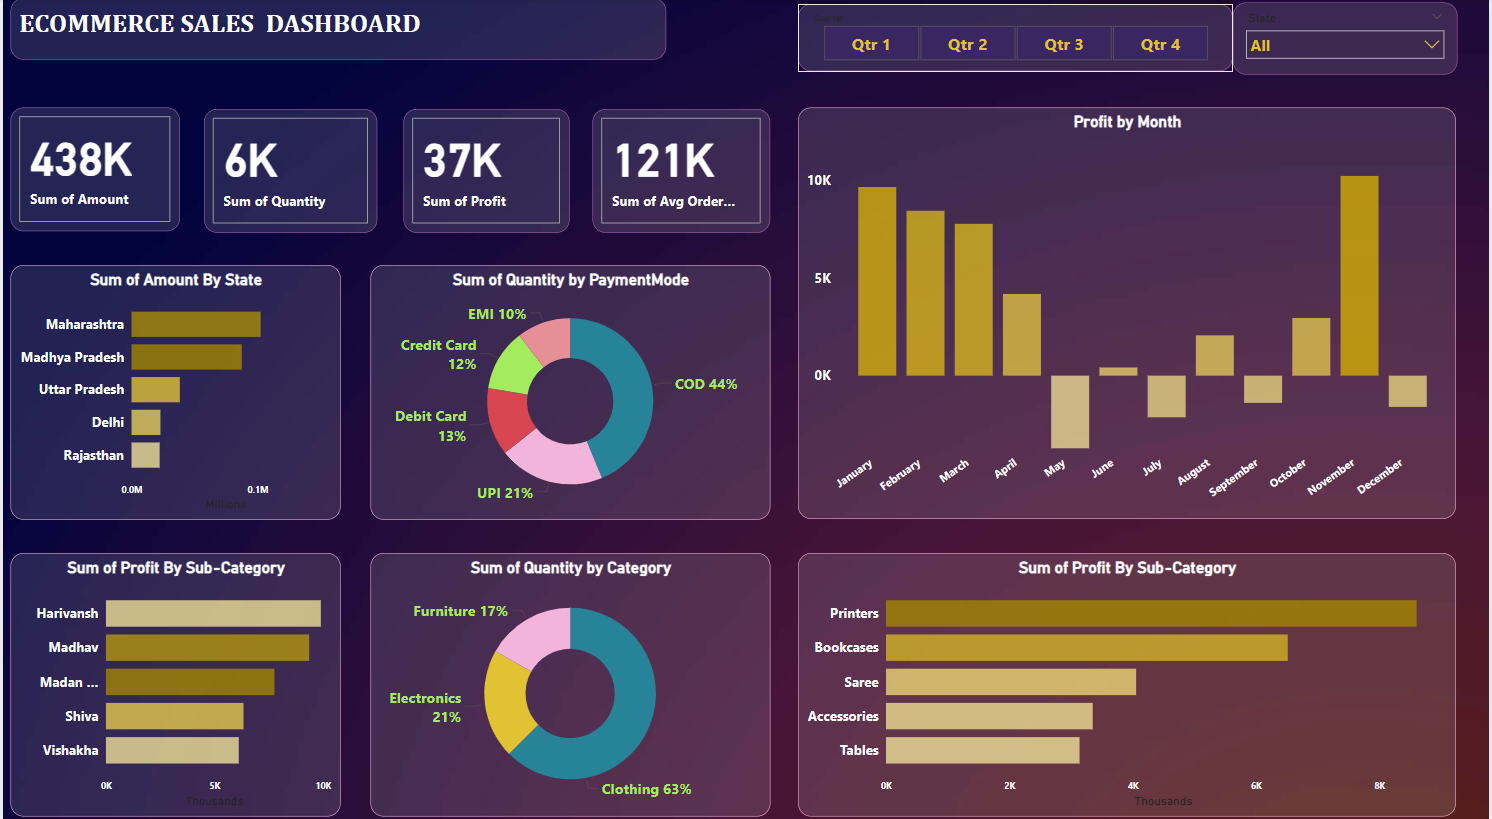

This screenshot's page, from the dashboard's own definition file:
{"tool":"powerbi","page":{"name":"Page 1","canvas":[1800,1001],"ordinal":0},"visuals":[{"type":"textbox","box":[9,0,794.9,74.4],"z":0},{"type":"columnChart","title":"Profit by Month","fields":{"Category":["Orders.Order Date.Variation.Date Hierarchy.Month"],"Y":["Details.Profit"]},"box":[964.1,133.3,797.4,498.7],"z":1000},{"type":"barChart","title":"Sum of Profit By  Sub-Category","fields":{"Category":["Details.Sub-Category"],"Y":["Details.Profit"]},"box":[964.1,673.1,797.4,319.2],"z":2000},{"type":"donutChart","fields":{"Category":["Details.Category"],"Y":["Details.Quantity"]},"box":[444.9,673.1,484.6,319.2],"z":3000},{"type":"donutChart","fields":{"Category":["Details.PaymentMode"],"Y":["Details.Quantity"]},"box":[444.9,323.1,484.6,309],"z":4000},{"type":"cardVisual","fields":{"Data":["Details.Amount"]},"box":[9,133.3,205.1,150],"z":5000},{"type":"cardVisual","fields":{"Data":["Details.Quantity"]},"box":[243.6,134.6,210.3,150],"z":6000},{"type":"cardVisual","fields":{"Data":["Details.Profit"]},"box":[485.9,134.6,201.3,150],"z":7000},{"type":"cardVisual","fields":{"Data":["Details.Avg Order Value"]},"box":[714.1,134.6,215.4,150],"z":8000},{"type":"barChart","title":"Sum of Amount By State","fields":{"Category":["Orders.State"],"Y":["Details.Amount"]},"box":[9,323.1,400,309],"z":9000},{"type":"barChart","title":"Sum of Profit By  Sub-Category","fields":{"Category":["Orders.CustomerName"],"Y":["Details.Amount"]},"box":[9,673.1,400,319.2],"z":10000},{"type":"slicer","fields":{"Values":["Orders.Order Date.Variation.Date Hierarchy.Quarter"]},"box":[963.3,8.2,526.5,81.6],"z":11000},{"type":"slicer","fields":{"Values":["Orders.State"]},"box":[1489.7,5.1,271.8,87.2],"z":12000}]}

Visuals, with their boxes in screenshot pixels (x1, y1, x2, y2), scaled from the page's 1800x1001 canvas onto the 1492x819 screenshot:
textbox: bbox(7, 0, 666, 61)
"Profit by Month" columnChart: bbox(799, 109, 1460, 517)
"Sum of Profit By  Sub-Category" barChart: bbox(799, 551, 1460, 812)
donutChart - Details.Category x Details.Quantity: bbox(369, 551, 770, 812)
donutChart - Details.PaymentMode x Details.Quantity: bbox(369, 264, 770, 517)
cardVisual - Details.Amount: bbox(7, 109, 177, 232)
cardVisual - Details.Quantity: bbox(202, 110, 376, 233)
cardVisual - Details.Profit: bbox(403, 110, 570, 233)
cardVisual - Details.Avg Order Value: bbox(592, 110, 770, 233)
"Sum of Amount By State" barChart: bbox(7, 264, 339, 517)
"Sum of Profit By  Sub-Category" barChart: bbox(7, 551, 339, 812)
slicer - Orders.Order Date.Variation.Date Hierarchy.Quarter: bbox(798, 7, 1235, 73)
slicer - Orders.State: bbox(1235, 4, 1460, 76)
